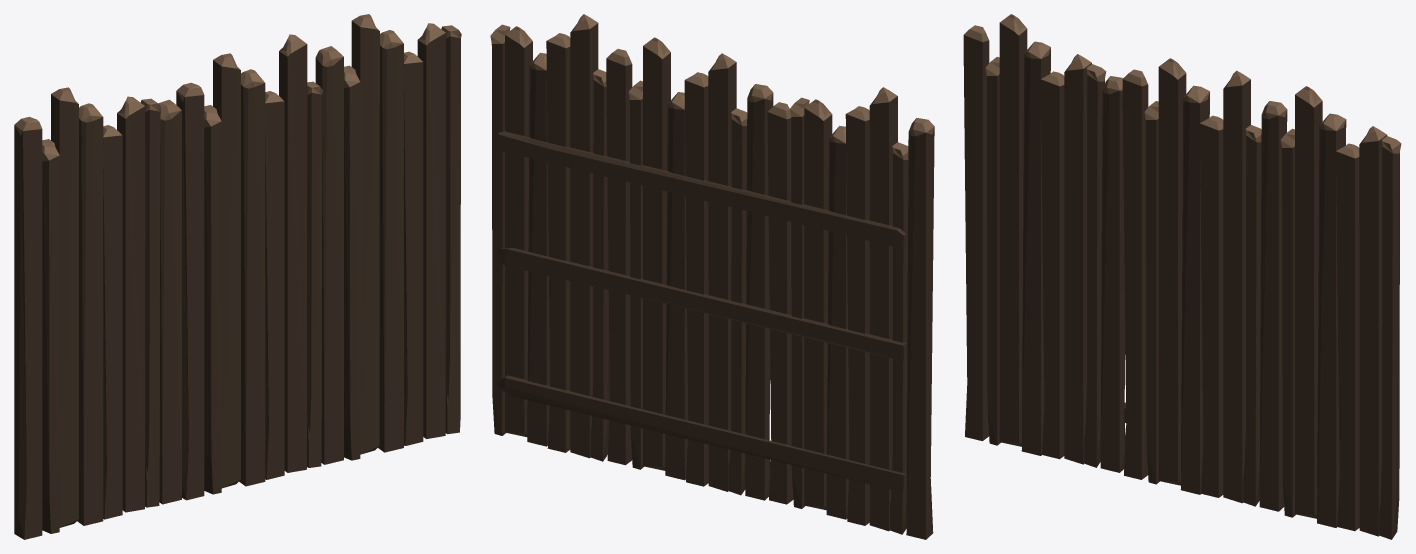
Rendered from SM_palisade_walls.fbx.
3 renders of one model, left to right at view 1: azimuth 30°, elevation 25°; view 2: azimuth 150°, elevation 25°; view 3: azimuth 330°, elevation 25°, orthographic.
Parts seen in each view (by area): view 1: Object536; view 2: Object536; view 3: Object536.
Boxes of the visible parts, left/top/right/bottom form: Object536: left=14, top=14, right=461, bottom=539; Object536: left=490, top=14, right=934, bottom=539; Object536: left=963, top=14, right=1401, bottom=539.
Size of the model in its own units: 297 by 285 by 15.71.
